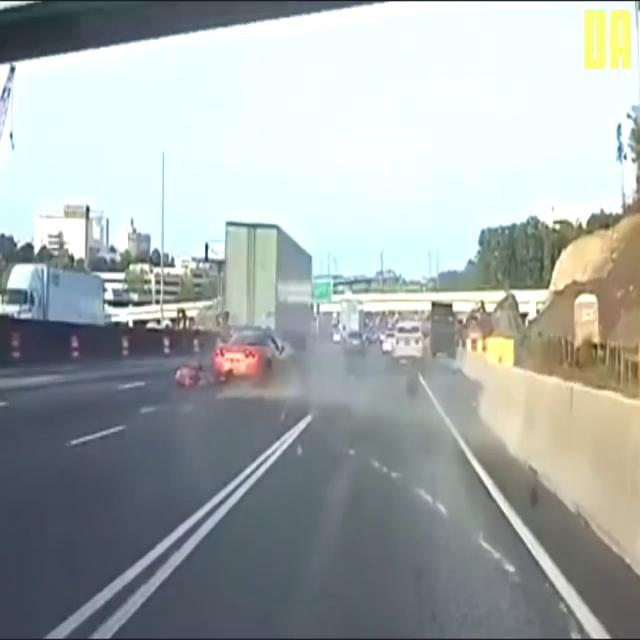accident: (175, 222, 312, 388)
non-accident: (382, 321, 424, 371), (339, 299, 369, 353)
